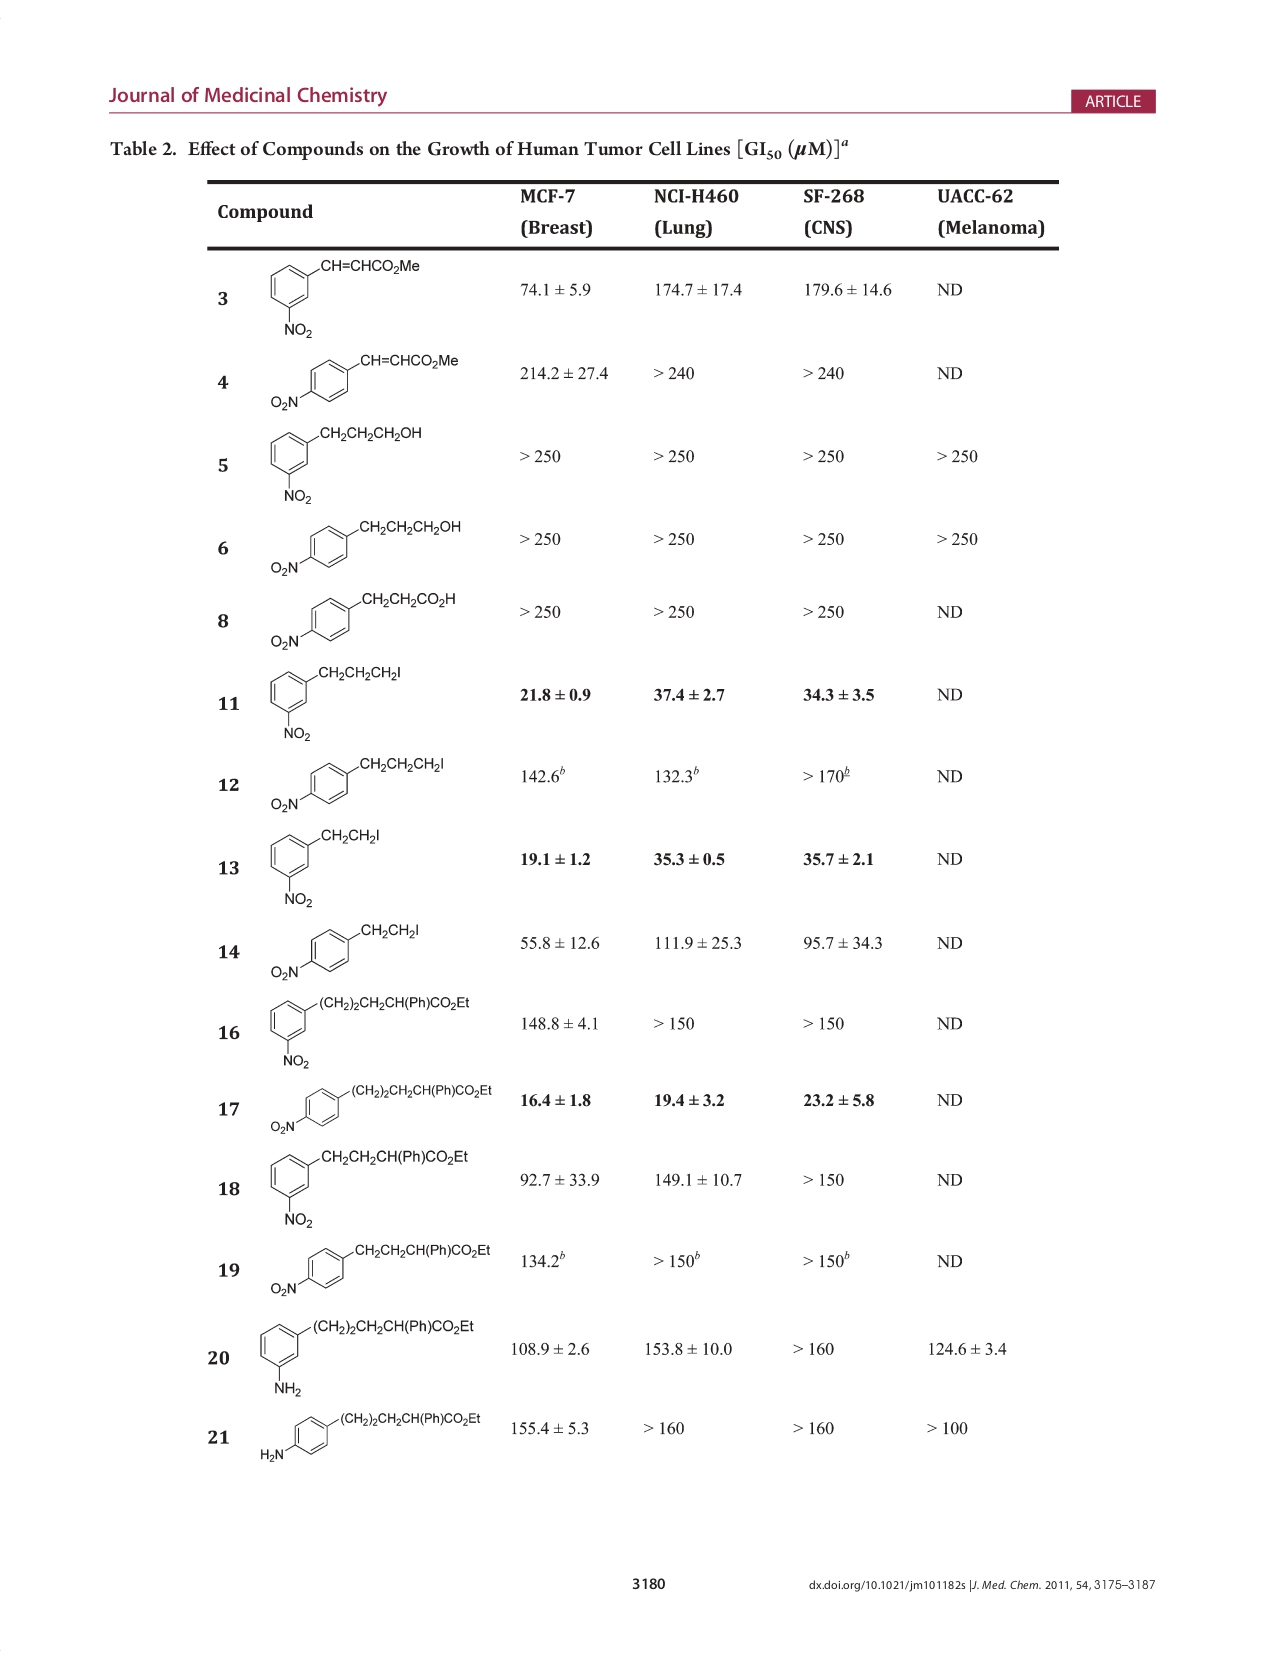exist_molecular: (251, 1309, 475, 1399), (262, 1138, 472, 1227), (261, 984, 473, 1071), (249, 1398, 481, 1470), (262, 410, 428, 509), (265, 1229, 493, 1301), (265, 505, 469, 581), (265, 1071, 496, 1137), (257, 249, 422, 340), (265, 338, 469, 411), (269, 582, 460, 652), (262, 652, 406, 739), (269, 741, 445, 811), (265, 908, 424, 984), (266, 813, 382, 910)
